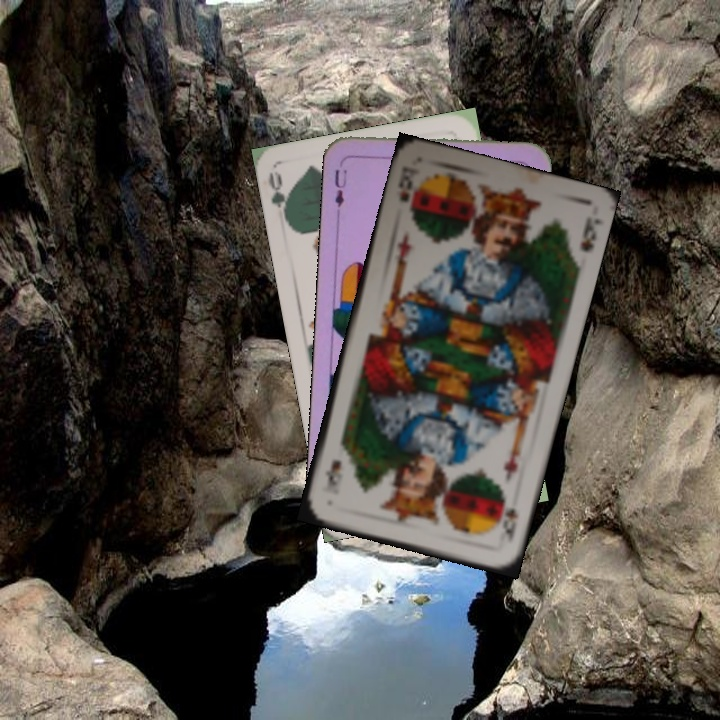EU: (330, 157, 350, 210)
GO: (264, 169, 293, 227)
SK: (494, 491, 521, 544), (394, 162, 421, 205)
